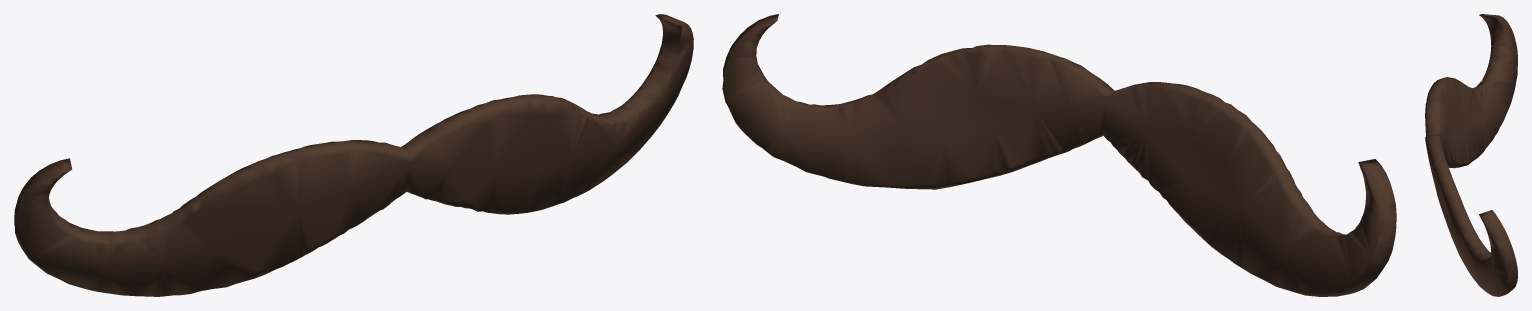
The model's file is wear-mustache.glb.
3 views of the same model, side by side, from view 1: azimuth 30°, elevation 25°; view 2: azimuth 150°, elevation 25°; view 3: azimuth 270°, elevation 25° (orthographic). The views are drawn at different scales.
Visible parts, largest first — view 1: mustache; view 2: mustache; view 3: mustache.
Part boxes in pixels (<box>): mustache: <box>14,14,693,296</box>; mustache: <box>722,14,1396,296</box>; mustache: <box>1425,14,1517,296</box>.
Bounding box in the file's own units: 1.05 × 0.2244 × 0.1837.
1 material, 1 textured.
